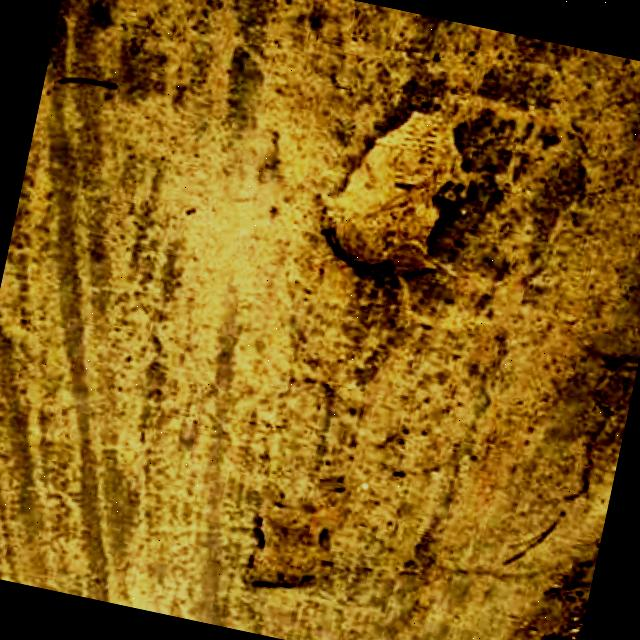pothole: (305, 79, 486, 292), (237, 494, 341, 604)
